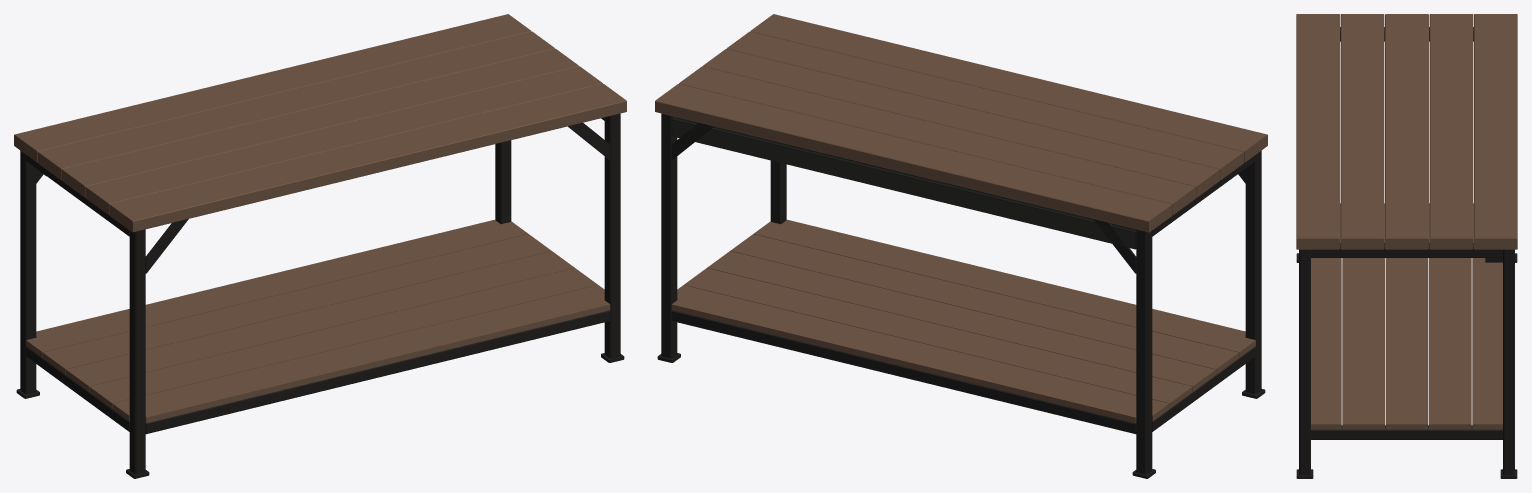
File: dj-table-52228e934ce6.glb
3 views of the same model, side by side, from view 1: azimuth 30°, elevation 25°; view 2: azimuth 150°, elevation 25°; view 3: azimuth 270°, elevation 25° (orthographic). The views are drawn at different scales.
Visible parts, largest first — view 1: wood, enamel-black; view 2: wood, enamel-black, grille-mesh; view 3: wood, enamel-black.
Part boxes in pixels (left/top/right/bottom): wood: left=14, top=14, right=626, bottom=423; enamel-black: left=16, top=113, right=624, bottom=478; wood: left=655, top=14, right=1267, bottom=423; enamel-black: left=657, top=113, right=1265, bottom=478; grille-mesh: left=672, top=120, right=1136, bottom=249; wood: left=1296, top=14, right=1517, bottom=429; enamel-black: left=1296, top=27, right=1517, bottom=478.
Size of the model in its own units: 1.8 by 0.9 by 0.75.
